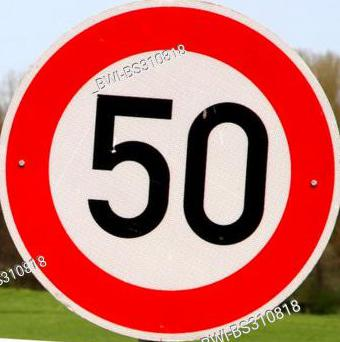Speed Limit -50-: (0, 1, 339, 341)
